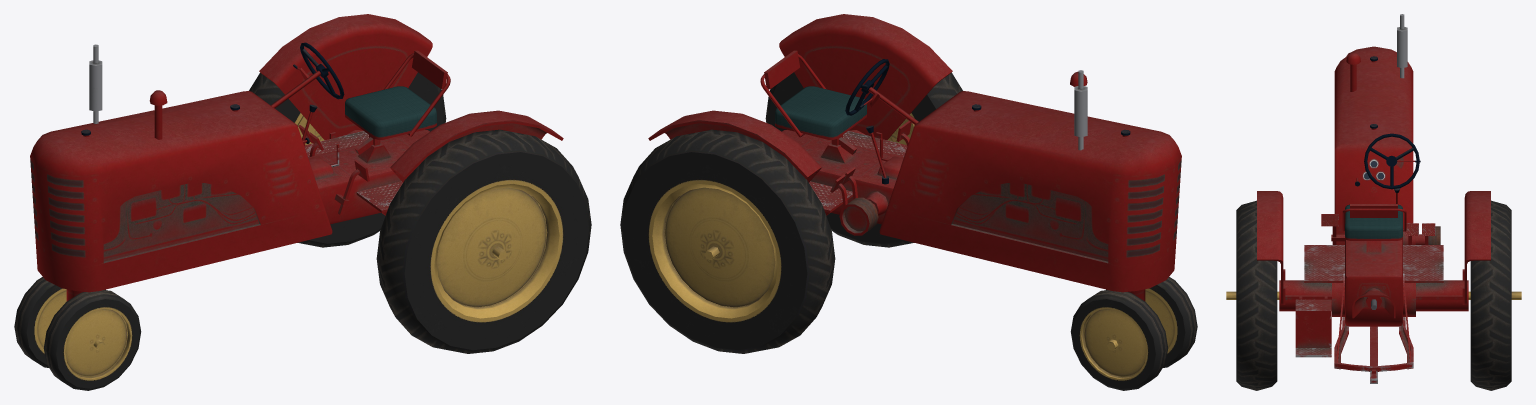
File: tractor-2.gltf
3 views of the same model, side by side, from view 1: azimuth 30°, elevation 25°; view 2: azimuth 150°, elevation 25°; view 3: azimuth 270°, elevation 25° (orthographic). The views are drawn at different scales.
Parts seen in each view (by area): view 1: Part3_low001, defaultMaterial (×2); view 2: Part3_low001, defaultMaterial (×2); view 3: Part3_low001, defaultMaterial.
Boxes of the visible parts, bbox=[...] form: Part3_low001: bbox=[30, 14, 563, 301]; defaultMaterial (×2): bbox=[14, 72, 591, 390]; Part3_low001: bbox=[648, 14, 1181, 301]; defaultMaterial (×2): bbox=[620, 72, 1197, 390]; Part3_low001: bbox=[1257, 14, 1490, 383]; defaultMaterial: bbox=[1226, 200, 1521, 390].
Bounding box in the file's own units: 2 × 1.14 × 1.22.
Materials: 1 (1 with a texture image).
